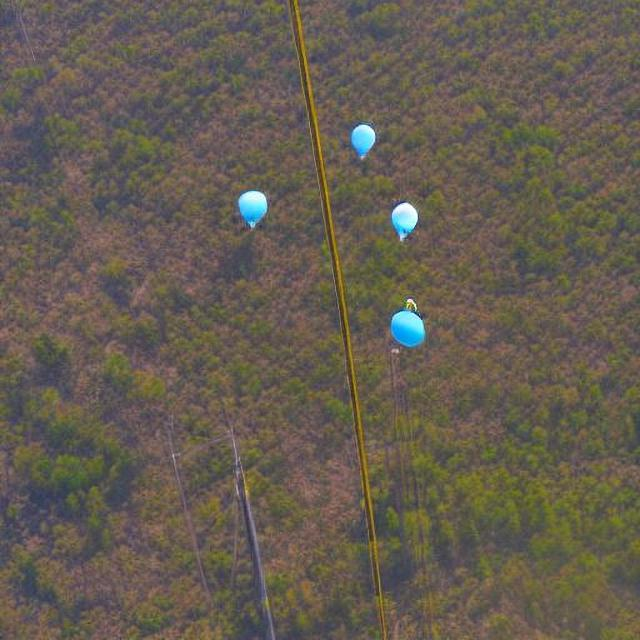balloon: (224, 181, 278, 237), (342, 114, 387, 168), (389, 296, 426, 347), (389, 199, 419, 238)
